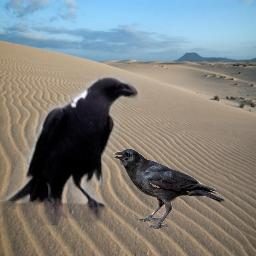Crow: (1, 73, 141, 232), (113, 148, 225, 229)
